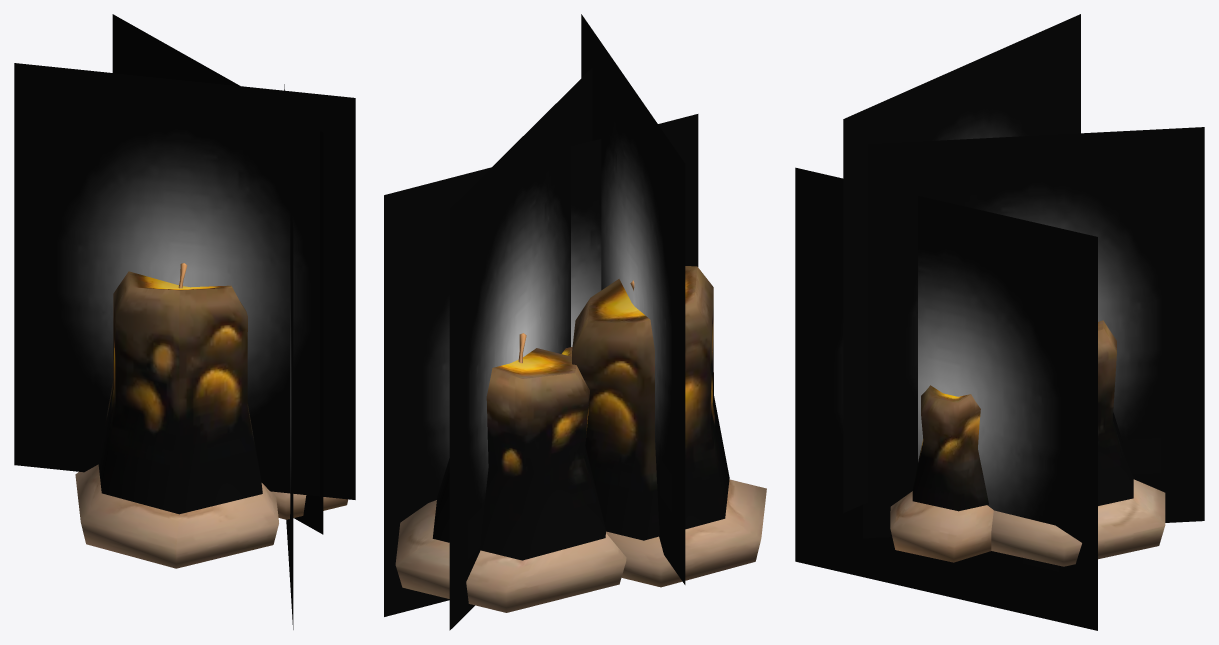
3 renders of one model, left to right at view 1: azimuth 30°, elevation 25°; view 2: azimuth 150°, elevation 25°; view 3: azimuth 270°, elevation 25°, orthographic. The views are drawn at different scales.
Size of the model in its own units: 1.12 by 1.88 by 1.44.
Materials: 3 (3 with a texture image).
